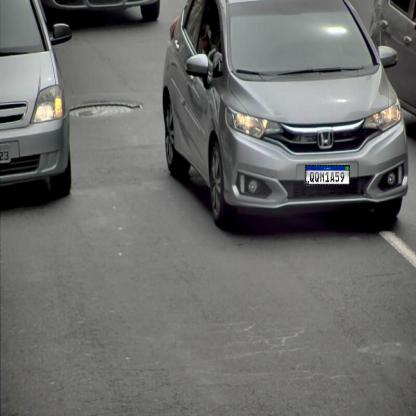PlacaM: (305, 165, 350, 185)
